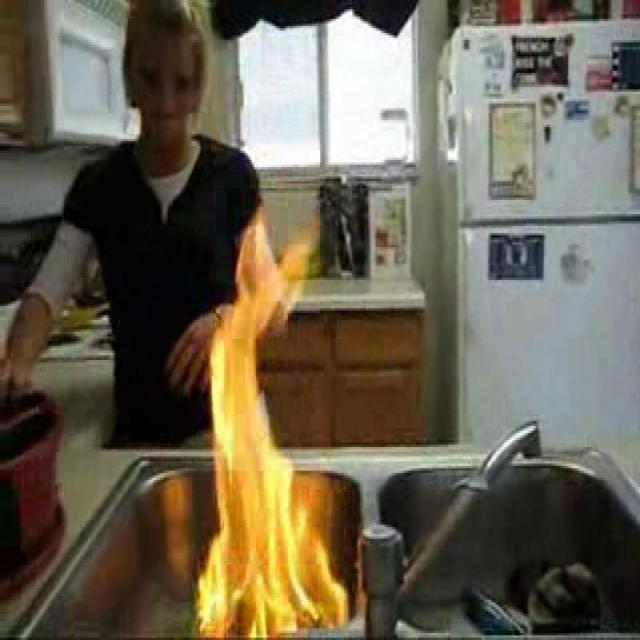Fire: (156, 205, 337, 638)
